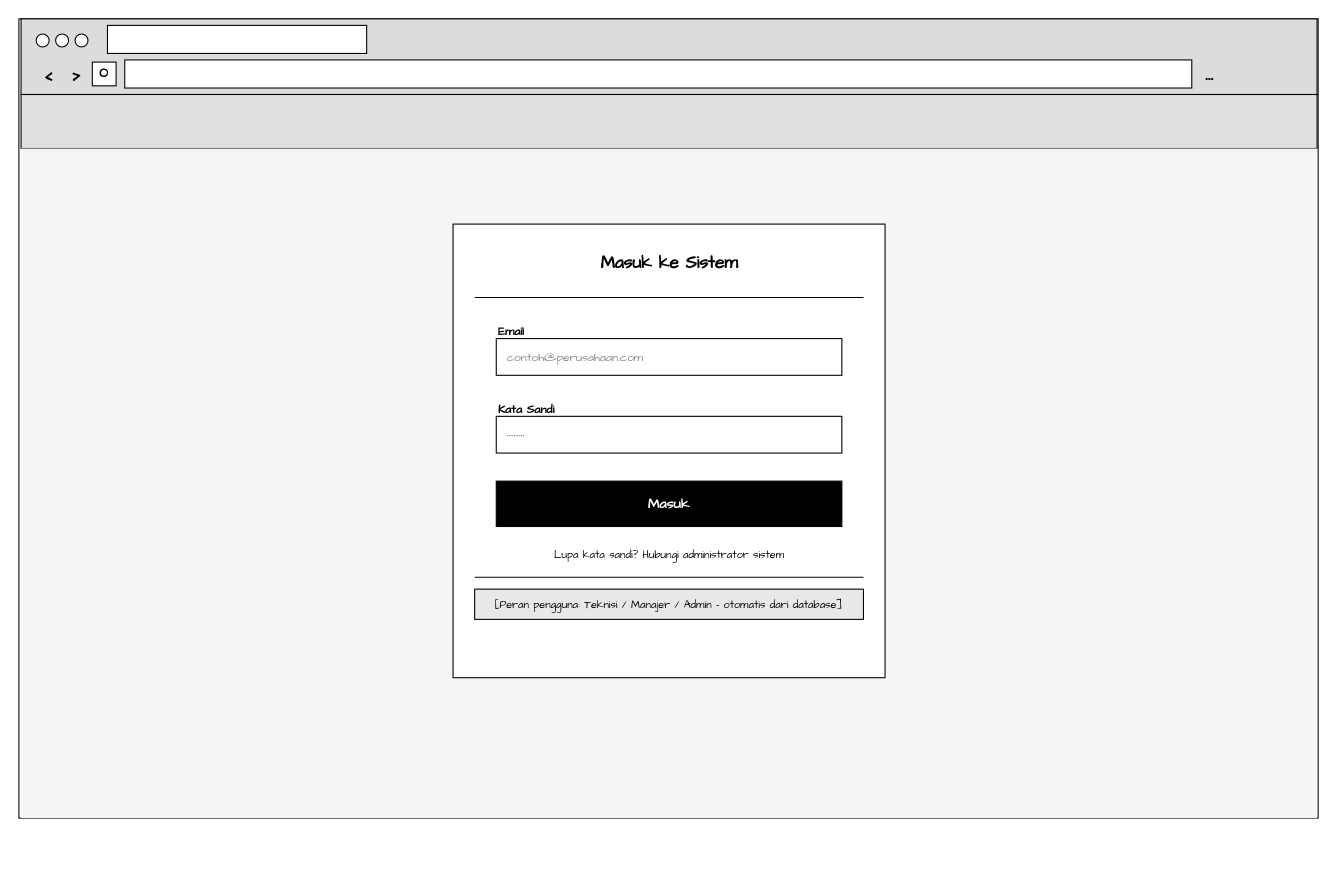
Image size: 1337x891. Some labels were removed from this diagram. Each missing label, with the box of its shape:
https://shi-crm.id/login: (124, 59, 1192, 88)
Login - SHI: (106, 24, 367, 53)
PT Smart Home Inovasi - Sistem Manajemen Proyek: (20, 93, 1317, 148)
